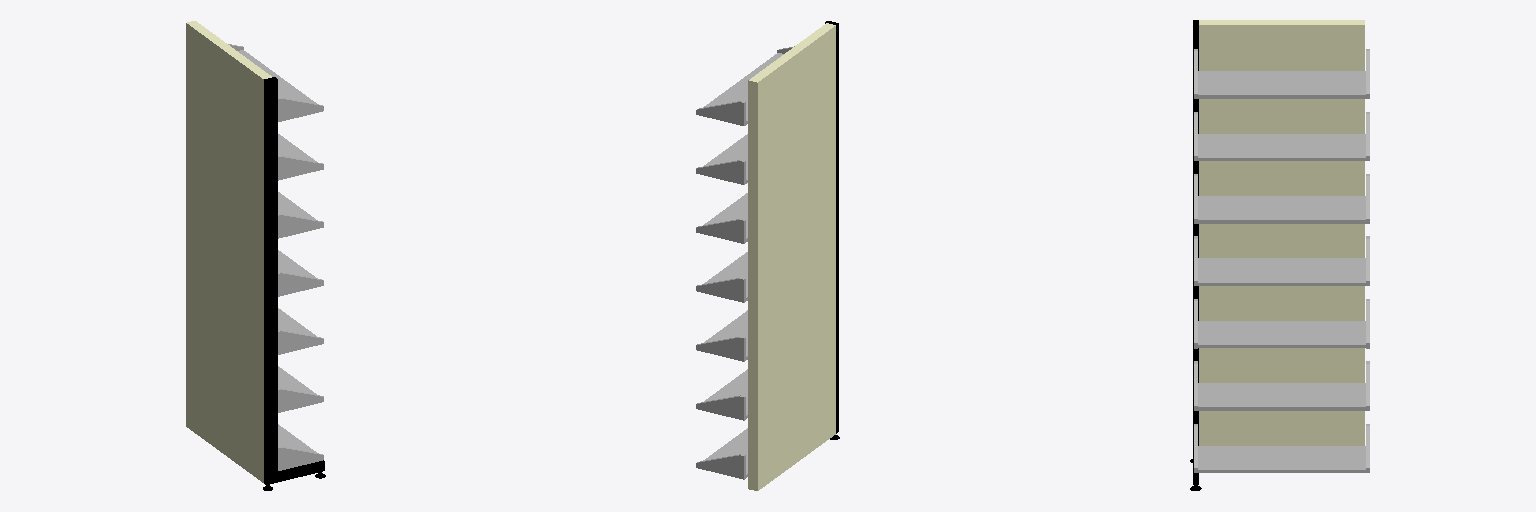
The robot description file, URDF, robot "bariera-900-middle":
<?xml version="1.0"?>
<robot name="bariera-900-middle"
       xmlns:xi="http://www.w3.org/2001/XInclude"
       xmlns:gazebo="http://playerstage.sourceforge.net/gazebo/xmlschema/#gz"
       xmlns:model="http://playerstage.sourceforge.net/gazebo/xmlschema/#model"
       xmlns:sensor="http://playerstage.sourceforge.net/gazebo/xmlschema/#sensor"
       xmlns:body="http://playerstage.sourceforge.net/gazebo/xmlschema/#body"
       xmlns:geom="http://playerstage.sourceforge.net/gazebo/xmlschema/#geom"
       xmlns:joint="http://playerstage.sourceforge.net/gazebo/xmlschema/#joint"
       xmlns:interface="http://playerstage.sourceforge.net/gazebo/xmlschema/#interface"
       xmlns:rendering="http://playerstage.sourceforge.net/gazebo/xmlschema/#rendering"
       xmlns:renderable="http://playerstage.sourceforge.net/gazebo/xmlschema/#renderable"
       xmlns:controller="http://playerstage.sourceforge.net/gazebo/xmlschema/#controller"
       xmlns:physics="http://playerstage.sourceforge.net/gazebo/xmlschema/#physics">
  <gazebo>
    <static>false</static>
  </gazebo>
  <link name="nil_link">
    <visual>
      <origin xyz="0 0 0" rpy="0 -0 0"/>
      <geometry>
        <mesh filename="model://bariera-900-middle/meshes/nil_link_mesh.dae" scale="1 1 1" />
      </geometry>
    </visual>
    <collision>
      <origin xyz="0 0 0" rpy="0 -0 0"/>
      <geometry>
        <mesh filename="model://bariera-900-middle/meshes/nil_link_mesh.dae" scale="1 1 1" />
      </geometry>
    </collision>
    <inertial>
      <mass value="0.001" />
      <origin xyz="0 0 0" rpy="0 -0 0"/>
      <inertia ixx="1e-09" ixy="0" ixz="0" iyy="1e-09" iyz="0" izz="1e-09"/>
    </inertial>
  </link>
  <gazebo reference="nil_link">
    <mu1>0.9</mu1>
    <mu2>0.9</mu2>
  </gazebo>
</robot>

--- What the picture shows (computed from the rendered views, not written in the file) ---
3 views of the same robot in one strip: view 1: azimuth 30°, elevation 25°; view 2: azimuth 150°, elevation 25°; view 3: azimuth 270°, elevation 25° (orthographic).
Model bariera-900-middle with 1 links and 0 joints (none), rooted at nil_link, posed all joints at 0.
Links seen in each view (by area): view 1: nil_link; view 2: nil_link; view 3: nil_link.
Boxes of the visible links, <box> form: nil_link: <box>186,21,325,490</box>; nil_link: <box>696,21,839,490</box>; nil_link: <box>1190,20,1369,490</box>.
Bounding box of the posed robot: 0.4 × 0.939 × 2.54 m (x, y, z).
1 mesh visuals loaded from 1 distinct referenced files (1 Collada DAE).
